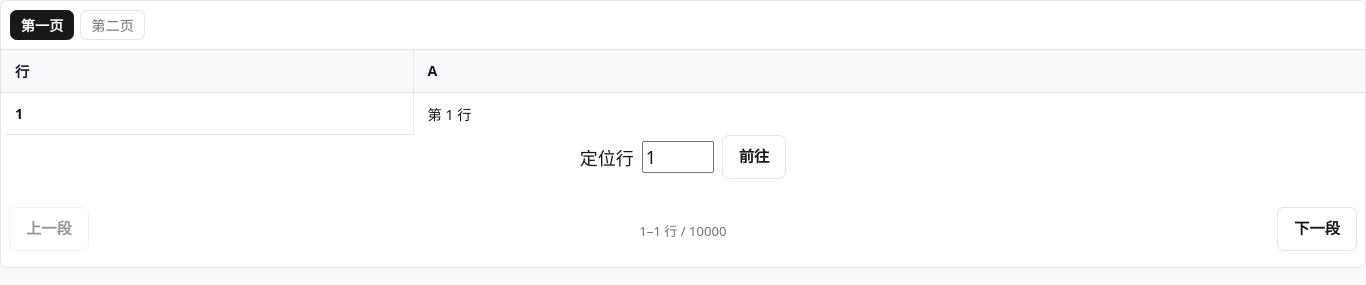
DocumentPreview › requests one Excel sheet and row window, permits jumping to the final rows
Expected: the text "第 1 行" is shown, x1=414 y1=92 x2=1365 y2=134
Step 1. Replace the text in the number field named "原件行号" with "10000" → coordinates (678, 156), box x1=642 y1=140 x2=714 y2=172
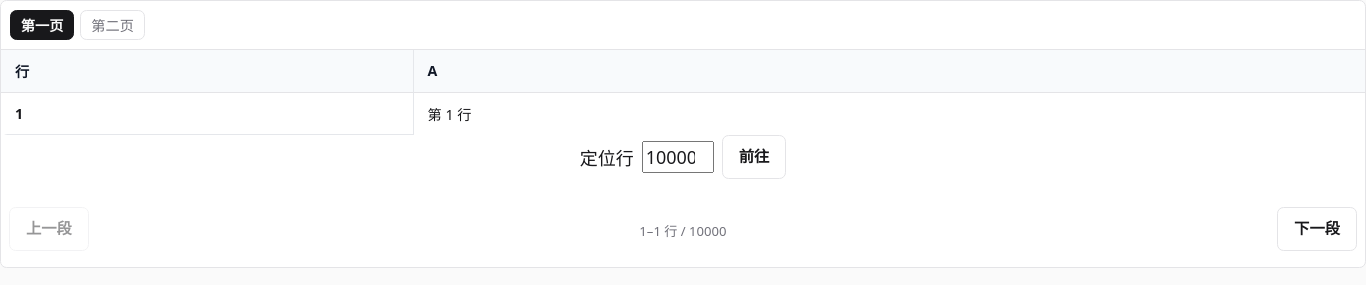
Step 2. Click the button "前往" → coordinates (754, 156), box x1=722 y1=134 x2=786 y2=178
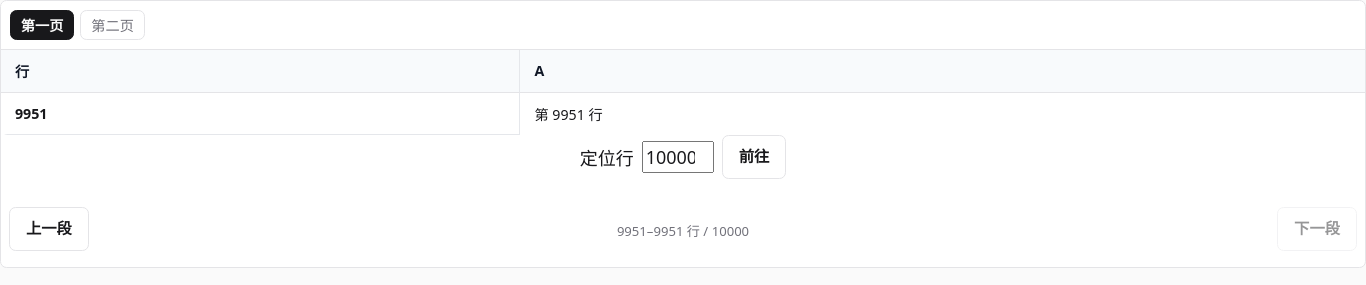
Expected: the text "第 9951 行" is shown, x1=520 y1=92 x2=1365 y2=134
Step 3. Click the tab "第二页" → coordinates (113, 25), box x1=80 y1=10 x2=145 y2=40
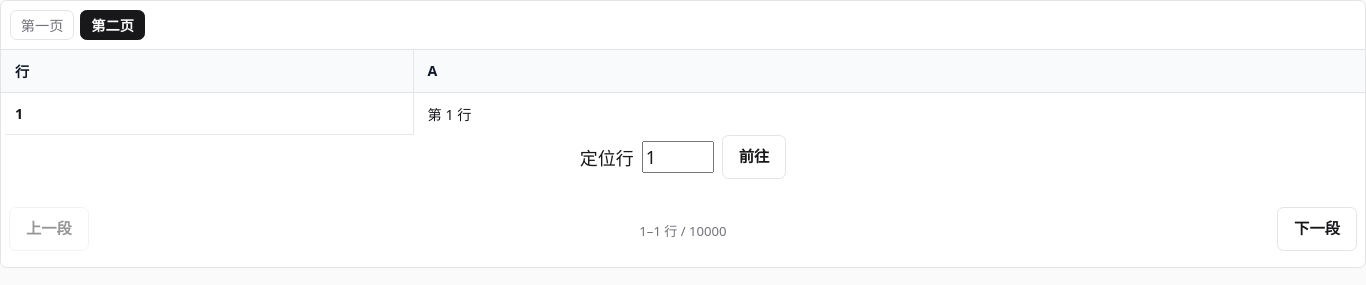
Expected: the text "第 1 行" is shown, x1=414 y1=92 x2=1365 y2=134
Expected: the number field named "原件行号" holds "1", x1=642 y1=140 x2=714 y2=172
Step 4. Click the tab "第一页" → coordinates (42, 25), box x1=10 y1=10 x2=74 y2=40
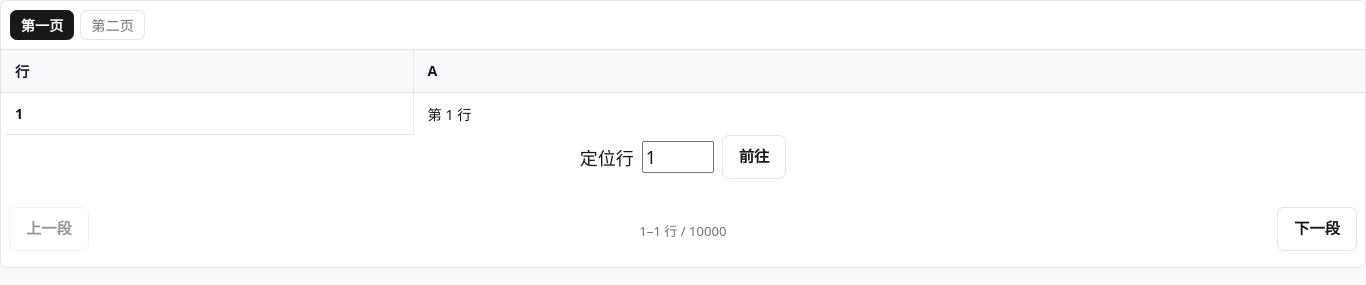
Expected: the text "第 1 行" is shown, x1=414 y1=92 x2=1365 y2=134
Expected: the number field named "原件行号" holds "1", x1=642 y1=140 x2=714 y2=172
Step 5. Click the button "下一段" → coordinates (1317, 228), box x1=1277 y1=206 x2=1357 y2=250
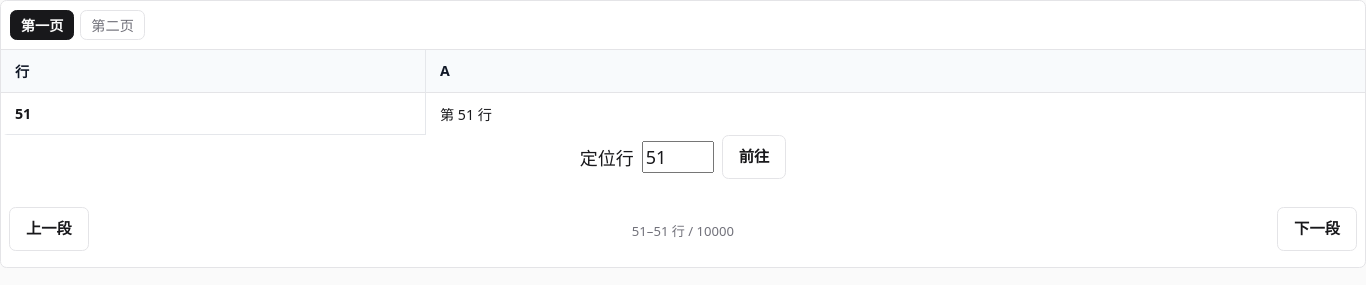
Expected: the text "第 51 行" is shown, x1=426 y1=92 x2=1365 y2=134
Expected: the number field named "原件行号" holds "51", x1=642 y1=140 x2=714 y2=172
